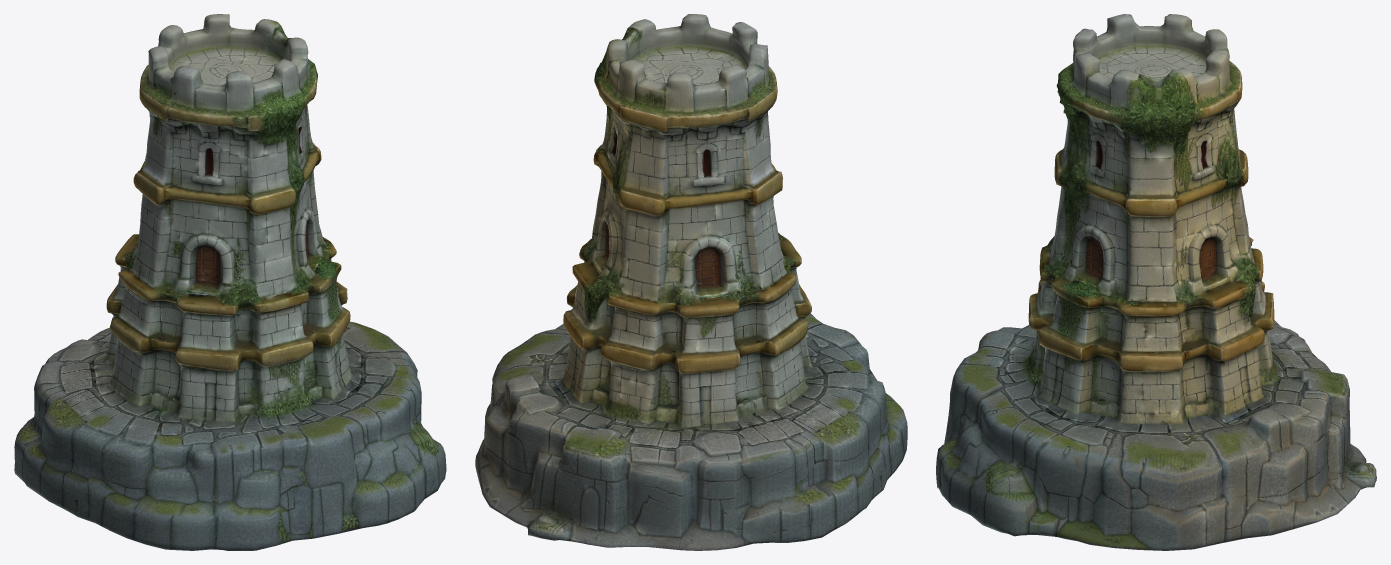
File: stone tower 3d model_Clone1.glb
3 renders of one model, left to right at view 1: azimuth 30°, elevation 25°; view 2: azimuth 150°, elevation 25°; view 3: azimuth 270°, elevation 25°, orthographic.
Parts seen in each view (by area): view 1: tripo_node_70cbf8d1; view 2: tripo_node_70cbf8d1; view 3: tripo_node_70cbf8d1.
Part boxes in pixels (x1,y1,x2,y2): tripo_node_70cbf8d1: (14,14,446,550); tripo_node_70cbf8d1: (475,14,907,550); tripo_node_70cbf8d1: (936,14,1376,550).
Size of the model in its own units: 0.8987 by 0.9976 by 0.9467.
1 material, 1 textured.
